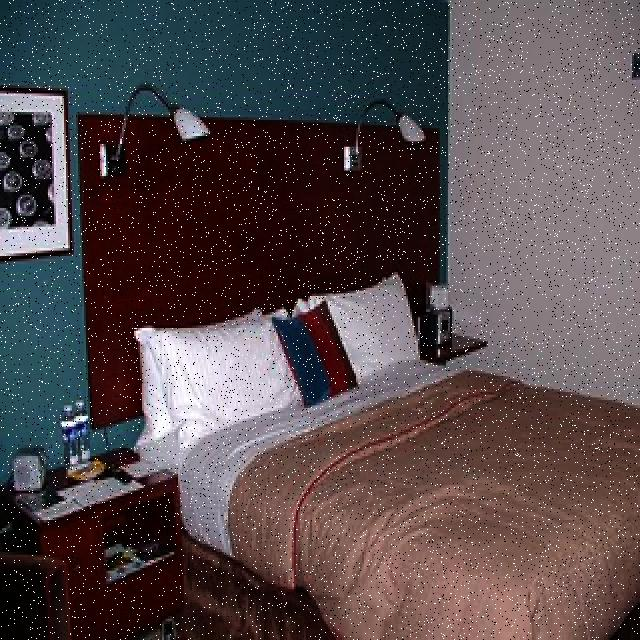bed: (134, 274, 640, 640)
